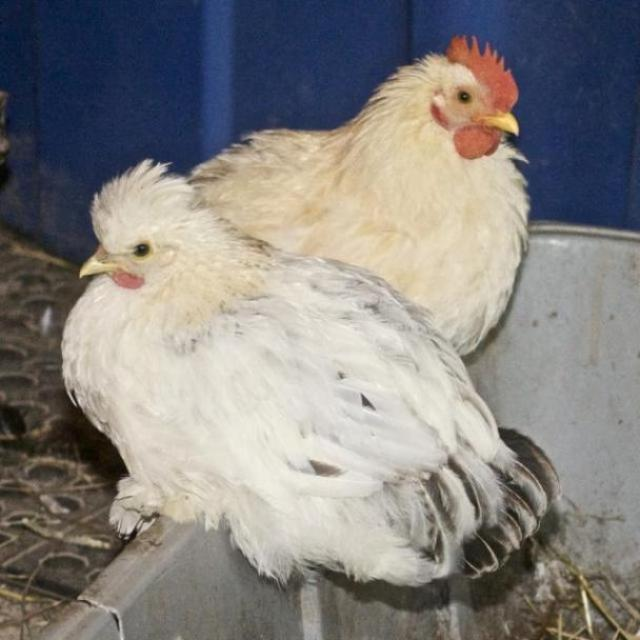Chicken: (61, 171, 459, 531), (181, 31, 543, 355)
